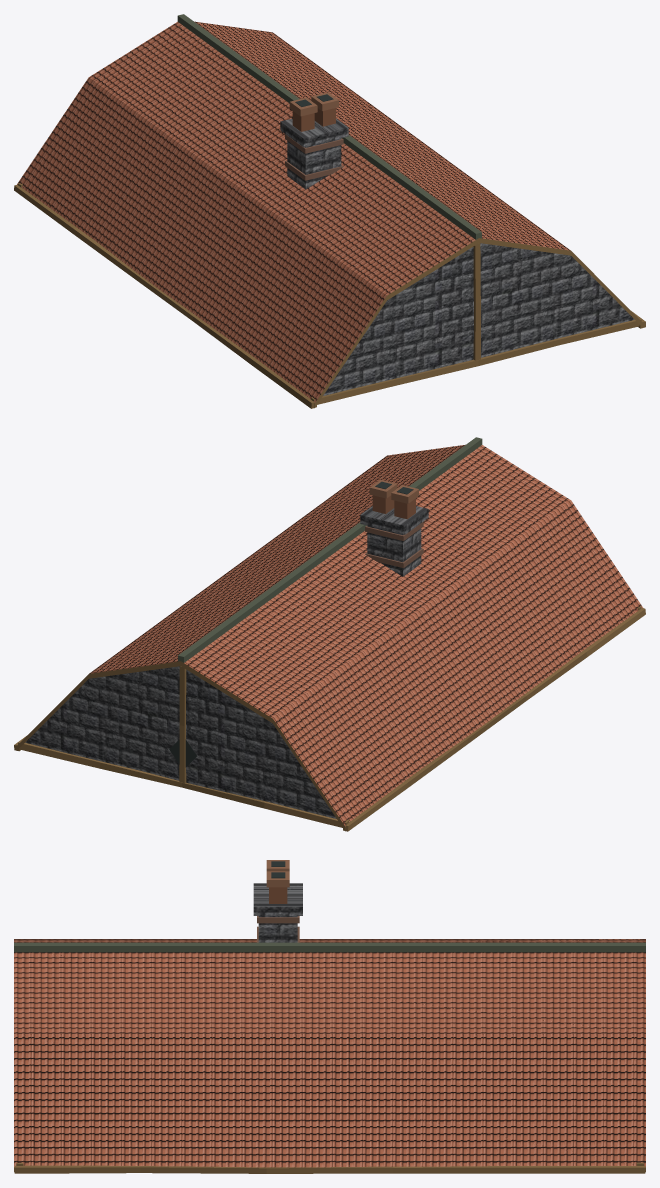
File: town_Roof_guard_4_gambrel.glb
3 renders of one model, top to bottom at view 1: azimuth 30°, elevation 25°; view 2: azimuth 150°, elevation 25°; view 3: azimuth 270°, elevation 25°, orthographic. The views are drawn at different scales.
Visible parts, largest first — view 1: town_Roof_guard_4_gambrel.005; view 2: town_Roof_guard_4_gambrel.005; view 3: town_Roof_guard_4_gambrel.005.
Part boxes in pixels (left/top/right/bottom): town_Roof_guard_4_gambrel.005: left=14, top=14, right=645, bottom=408; town_Roof_guard_4_gambrel.005: left=14, top=437, right=645, bottom=831; town_Roof_guard_4_gambrel.005: left=14, top=860, right=645, bottom=1173.
Bounding box in the file's own units: 7.12 × 3.8 × 11.
Materials: 3 (2 with a texture image).
